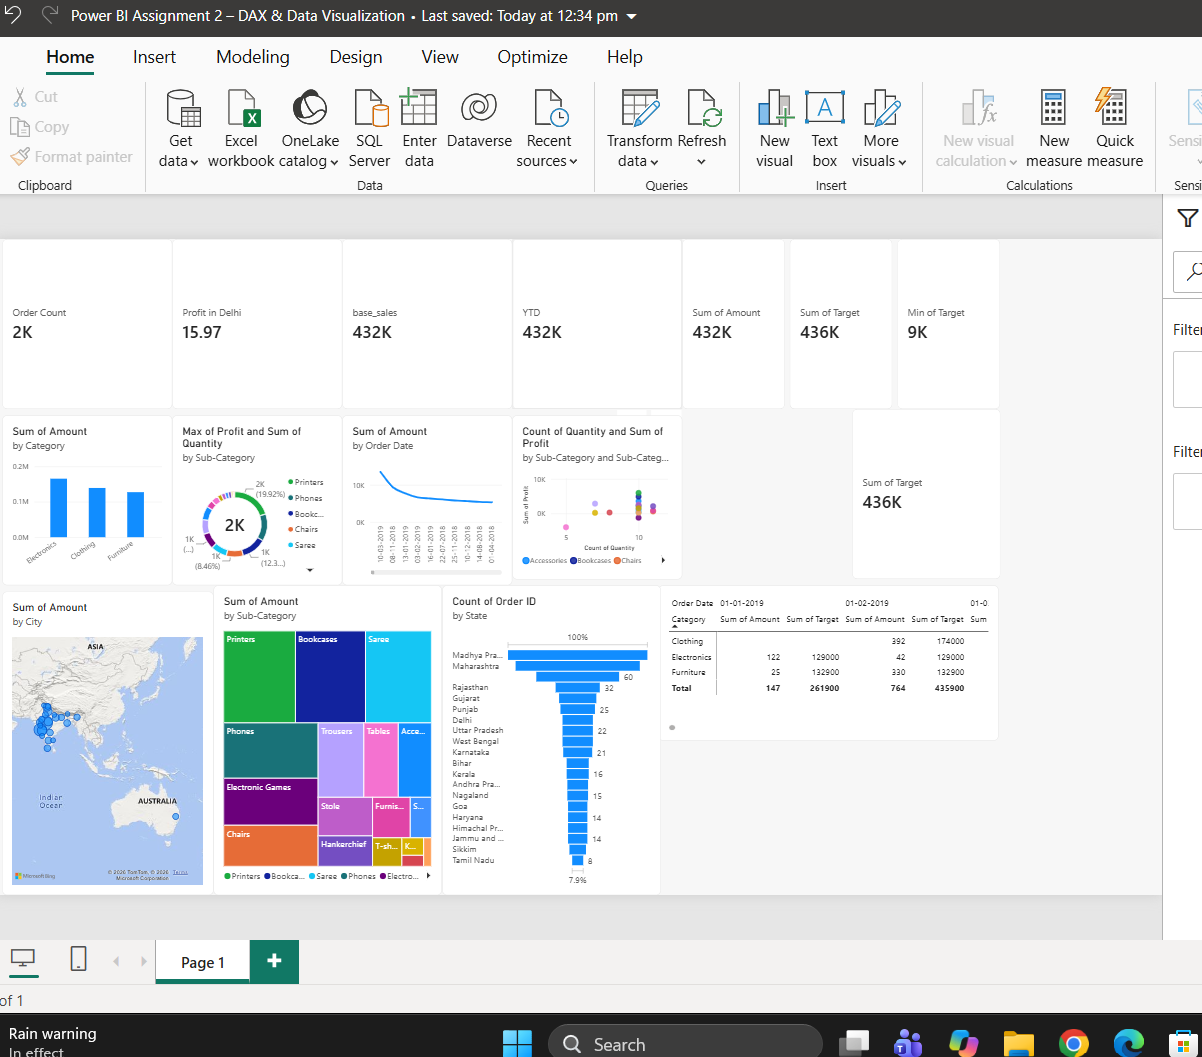

What the dashboard file says about the page in this screenshot:
{"tool":"powerbi","page":{"name":"Page 1","canvas":[1920,1080],"ordinal":0},"visuals":[{"type":"cardVisual","fields":{"Data":["Order Details (2).Order Count"]},"box":[10,0,280,280],"z":0},{"type":"cardVisual","fields":{"Data":["List of Orders (2).Profit in Delhi"]},"box":[290.2,0,280,280],"z":1},{"type":"cardVisual","fields":{"Data":["Collection.base_sales"]},"box":[570.2,0,280,280],"z":2},{"type":"cardVisual","fields":{"Data":["Collection.YTD"]},"box":[850.1,0,280,280],"z":3},{"type":"clusteredColumnChart","fields":{"Category":["Order Details .Category"],"Y":["Sum(Order Details .Amount)"]},"box":[10,290,280,280],"z":4},{"type":"donutChart","fields":{"Category":["Order Details .Sub-Category"],"Y":["Max(Order Details .Profit)"]},"box":[290,290,280,280],"z":5},{"type":"lineChart","fields":{"Category":["List of orders .Order Date"],"Y":["Sum(Order Details .Amount)"]},"box":[570,290,280,280],"z":6},{"type":"scatterChart","fields":{"Category":["Order Details .Sub-Category"],"Series":["Order Details .Sub-Category"],"X":["Count(Order Details .Quantity)"],"Y":["Sum(Order Details .Profit)"]},"box":[850,290,280,270],"z":7},{"type":"map","fields":{"Category":["List of orders .City"],"Size":["Sum(Order Details .Amount)"]},"box":[10,580,348,500],"z":8},{"type":"cardVisual","fields":{"Data":["Sum(Order Details .Amount)","Sum(Sales target.Target)","Min(Sales target.Target)"]},"box":[1130,0,524,280],"z":9},{"type":"cardVisual","fields":{"Data":["Sum(Sales target.Target)"]},"box":[1410,280,244,280],"z":10},{"type":"pivotTable","fields":{"Columns":["List of orders .Order Date"],"Rows":["Order Details .Category"],"Values":["Sum(Order Details .Amount)","Sum(Sales target.Target)"]},"box":[1090,570,560,256],"z":11},{"type":"treemap","fields":{"Group":["Order Details .Sub-Category"],"Values":["Sum(Order Details .Amount)"]},"box":[358,570,376,510],"z":12},{"type":"funnel","fields":{"Category":["List of orders .State"],"Y":["CountNonNull(List of orders .Order ID)"]},"box":[734,570,360,510],"z":13}]}

Visuals, with their boxes on the page's 1920x1080 design canvas (x1, y1, x2, y2). These are canvas units, not pixel positions in the 1202x1057 screenshot, which may show the page scaled, cropped or inside an application window:
cardVisual - Order Details (2).Order Count: [10,0,290,280]
cardVisual - List of Orders (2).Profit in Delhi: [290,0,570,280]
cardVisual - Collection.base_sales: [570,0,850,280]
cardVisual - Collection.YTD: [850,0,1130,280]
clusteredColumnChart - Order Details .Category x Sum(Order Details .Amount): [10,290,290,570]
donutChart - Order Details .Sub-Category x Max(Order Details .Profit): [290,290,570,570]
lineChart - List of orders .Order Date x Sum(Order Details .Amount): [570,290,850,570]
scatterChart - Order Details .Sub-Category x Order Details .Sub-Category: [850,290,1130,560]
map - List of orders .City x Sum(Order Details .Amount): [10,580,358,1080]
cardVisual - Sum(Order Details .Amount) x Sum(Sales target.Target): [1130,0,1654,280]
cardVisual - Sum(Sales target.Target): [1410,280,1654,560]
pivotTable - List of orders .Order Date x Order Details .Category: [1090,570,1650,826]
treemap - Order Details .Sub-Category x Sum(Order Details .Amount): [358,570,734,1080]
funnel - List of orders .State x CountNonNull(List of orders .Order ID): [734,570,1094,1080]
